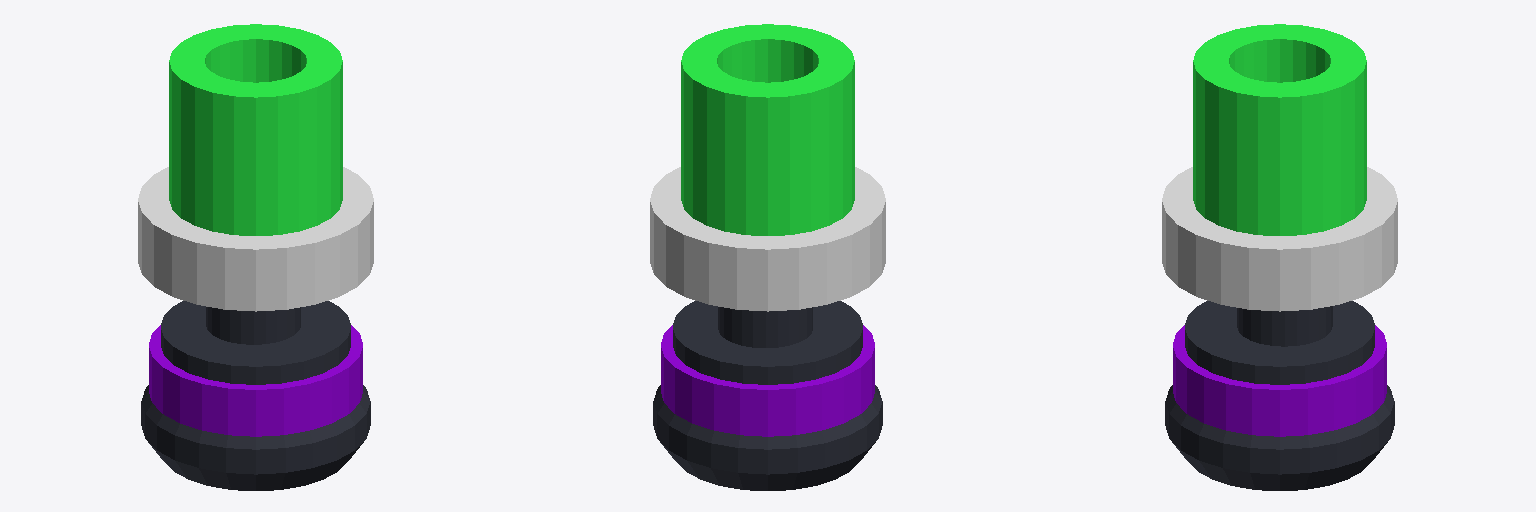
File: tower_uranium_235.obj
The picture shows the model from 3 angles: view 1: azimuth 30°, elevation 25°; view 2: azimuth 150°, elevation 25°; view 3: azimuth 270°, elevation 25°; orthographic projection.
Visible parts, largest first — view 1: mergedBlocks; view 2: mergedBlocks; view 3: mergedBlocks.
Boxes of the visible parts, x1,y1,x2,y2 form: mergedBlocks: [138, 24, 373, 490]; mergedBlocks: [650, 24, 885, 490]; mergedBlocks: [1162, 24, 1397, 490].
Size of the model in its own units: 0.99 by 1.8 by 0.99.